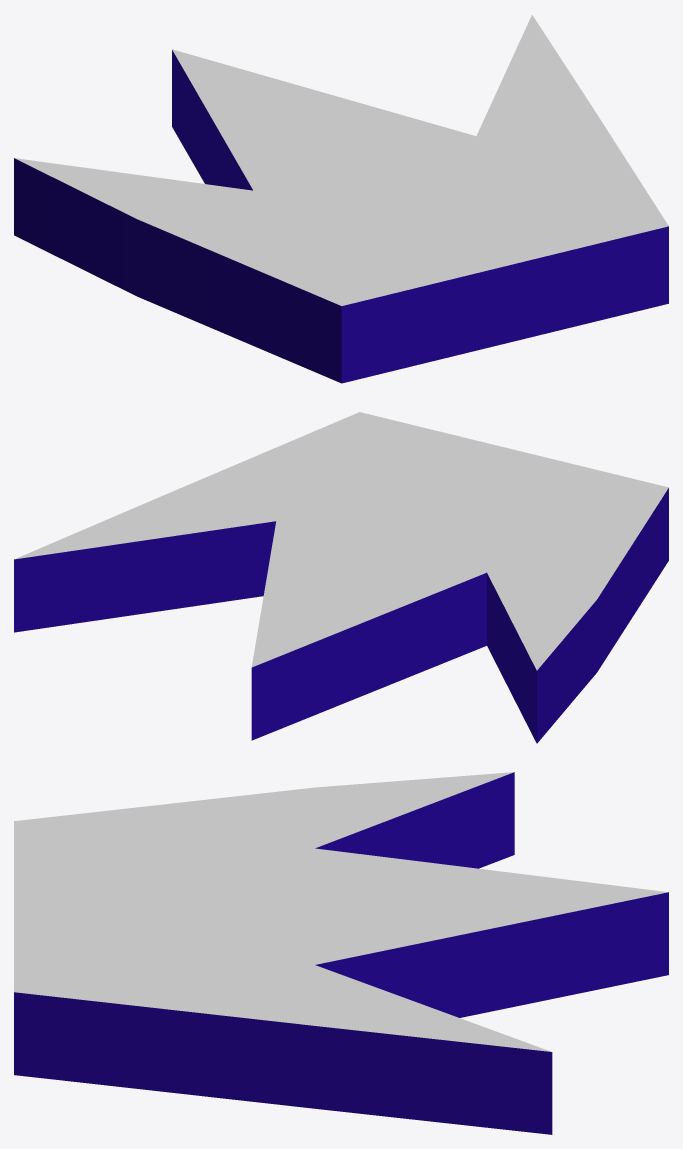
File: Threespikes_Crown_N_1.fbx
3 renders of one model, top to bottom at view 1: azimuth 30°, elevation 25°; view 2: azimuth 150°, elevation 25°; view 3: azimuth 270°, elevation 25°, orthographic. The views are drawn at different scales.
Parts seen in each view (by area): view 1: pCube1; view 2: pCube1; view 3: pCube1.
Part boxes in pixels (x1=…): pCube1: x1=14, y1=14, x2=668, y2=383; pCube1: x1=14, y1=412, x2=668, y2=743; pCube1: x1=14, y1=772, x2=668, y2=1134.
Bounding box in the file's own units: 3.17 × 0.4375 × 3.13.
